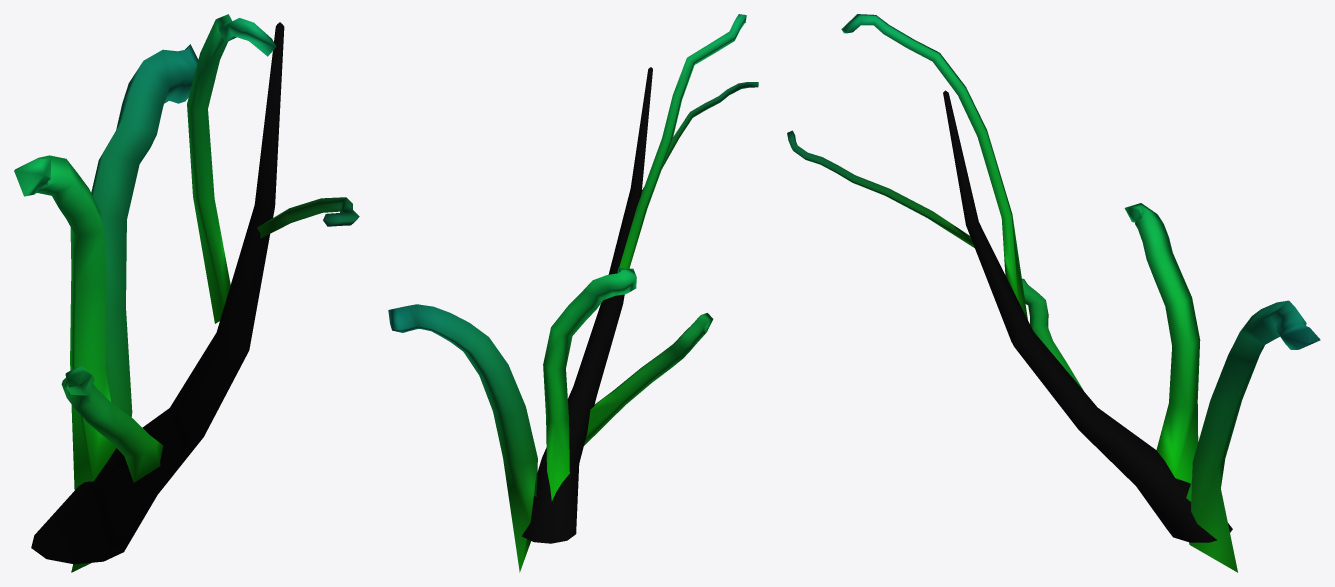
File: DryBranches.fbx
3 views of the same model, side by side, from view 1: azimuth 30°, elevation 25°; view 2: azimuth 150°, elevation 25°; view 3: azimuth 270°, elevation 25° (orthographic). The views are drawn at different scales.
Parts seen in each view (by area): view 1: Tree_0; view 2: Tree_0; view 3: Tree_0.
Part boxes in pixels (box(x1,y1,x2,y2)): Tree_0: box(14, 14, 359, 572); Tree_0: box(388, 14, 758, 572); Tree_0: box(787, 14, 1320, 572).
Bounding box in the file's own units: 28.04 × 61.21 × 56.44.
